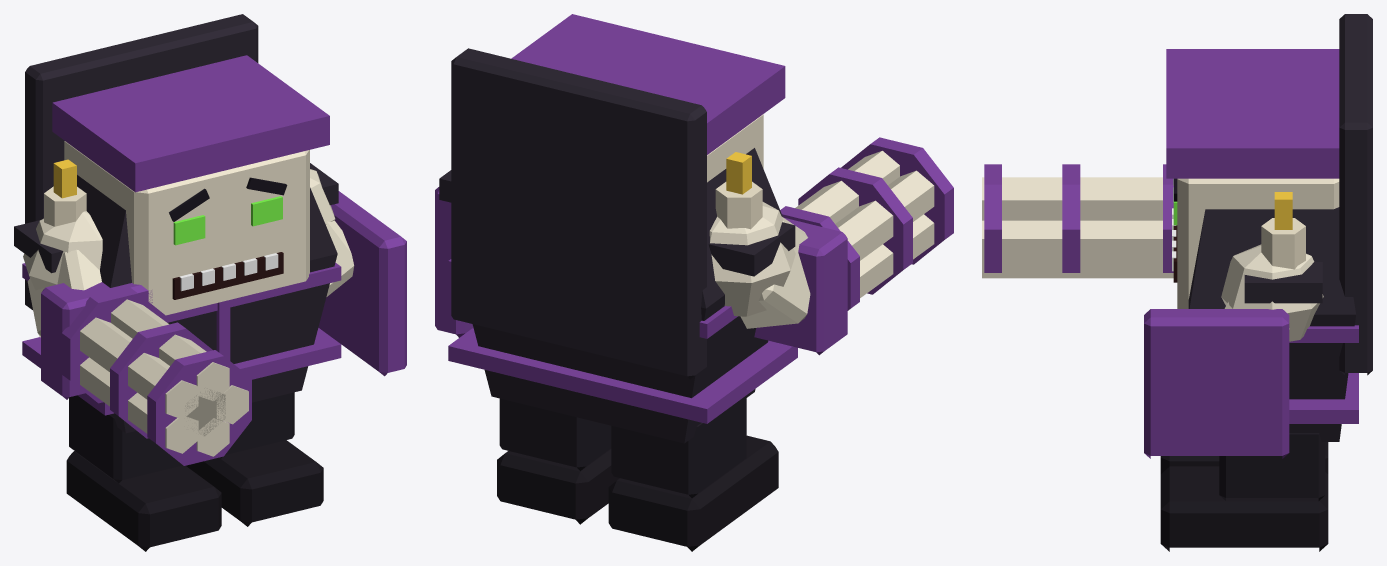
Rendered from r4_mini_coffin_cannon.glb.
3 renders of one model, left to right at view 1: azimuth 30°, elevation 25°; view 2: azimuth 150°, elevation 25°; view 3: azimuth 270°, elevation 25°, orthographic. The views are drawn at different scales.
Visible parts, largest first — view 1: r4_mini_coffin_cannon_mesh; view 2: r4_mini_coffin_cannon_mesh; view 3: r4_mini_coffin_cannon_mesh.
Part boxes in pixels (x1,y1,x2,y2): r4_mini_coffin_cannon_mesh: (14,14,406,551); r4_mini_coffin_cannon_mesh: (435,14,953,551); r4_mini_coffin_cannon_mesh: (982,14,1372,551).
Bounding box in the file's own units: 3.12 × 3.8 × 3.06.
1 material, 1 textured.
